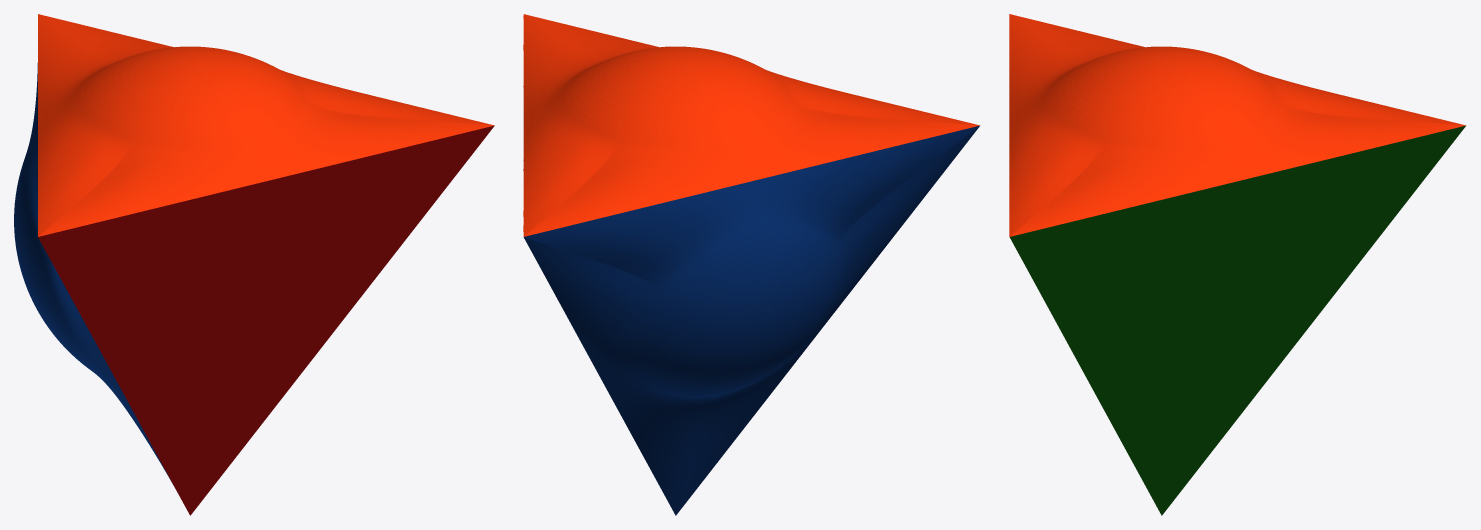
Rendered from 2_0_2_0_tetrahedron.obj.
3 renders of one model, left to right at view 1: azimuth 30°, elevation 25°; view 2: azimuth 150°, elevation 25°; view 3: azimuth 270°, elevation 25°, orthographic.
Parts seen in each view (by area): view 1: Level_0_-_level_0_front, Level_2_-_level_2_top_Level_2_-_level_2_top.001, Level_2_-_level_2_left_Level_2_-_level_2_left.001; view 2: Level_2_-_level_2_left_Level_2_-_level_2_left.001, Level_2_-_level_2_top_Level_2_-_level_2_top.001; view 3: Level_0_-_level_0_right, Level_2_-_level_2_top_Level_2_-_level_2_top.001.
Part boxes in pixels (x1=…): Level_0_-_level_0_front: x1=38, y1=125, x2=494, y2=515; Level_2_-_level_2_top_Level_2_-_level_2_top.001: x1=38, y1=14, x2=494, y2=236; Level_2_-_level_2_left_Level_2_-_level_2_left.001: x1=14, y1=63, x2=171, y2=482; Level_2_-_level_2_left_Level_2_-_level_2_left.001: x1=523, y1=125, x2=979, y2=515; Level_2_-_level_2_top_Level_2_-_level_2_top.001: x1=523, y1=14, x2=979, y2=236; Level_0_-_level_0_right: x1=1009, y1=125, x2=1465, y2=515; Level_2_-_level_2_top_Level_2_-_level_2_top.001: x1=1009, y1=14, x2=1465, y2=236.
Size of the model in its own units: 0.1 by 0.0946 by 0.0866.
